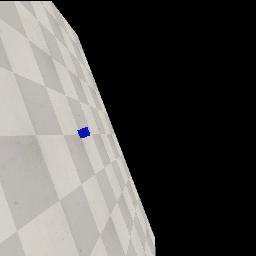box: (77, 127, 90, 138)
